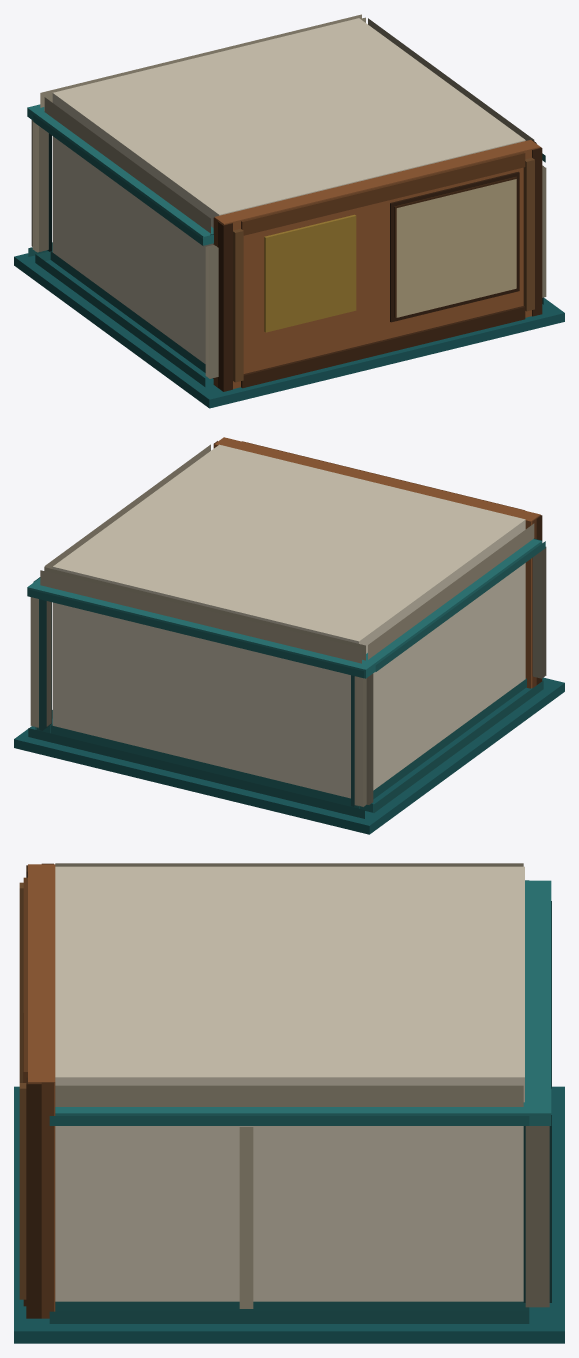
The model's file is MonsterRadioSil.fbx.
3 renders of one model, top to bottom at view 1: azimuth 30°, elevation 25°; view 2: azimuth 150°, elevation 25°; view 3: azimuth 270°, elevation 25°, orthographic. The views are drawn at different scales.
Parts seen in each view (by area): view 1: MR_S_All; view 2: MR_S_All; view 3: MR_S_All.
Boxes of the visible parts, left/top/right/bottom form: MR_S_All: left=14, top=14, right=564, bottom=408; MR_S_All: left=14, top=437, right=564, bottom=834; MR_S_All: left=14, top=863, right=564, bottom=1343.
Bounding box in the file's own units: 42.04 × 20 × 40.04.
